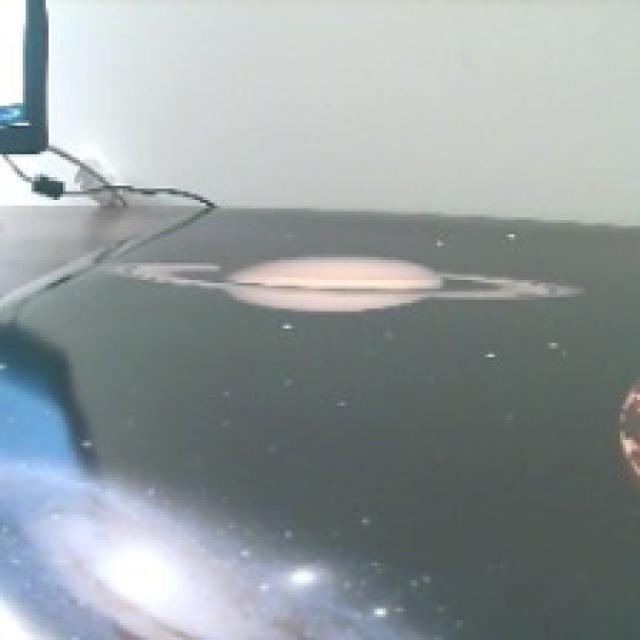Galaxy: (0, 454, 400, 640)
Saturn: (107, 253, 581, 316)
